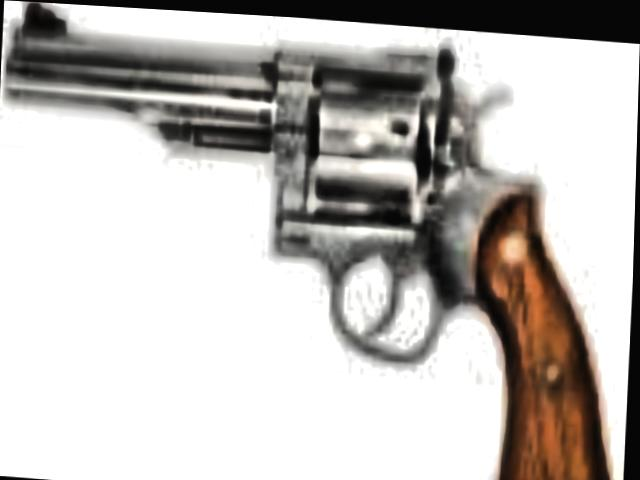pistol: (0, 3, 632, 480)
